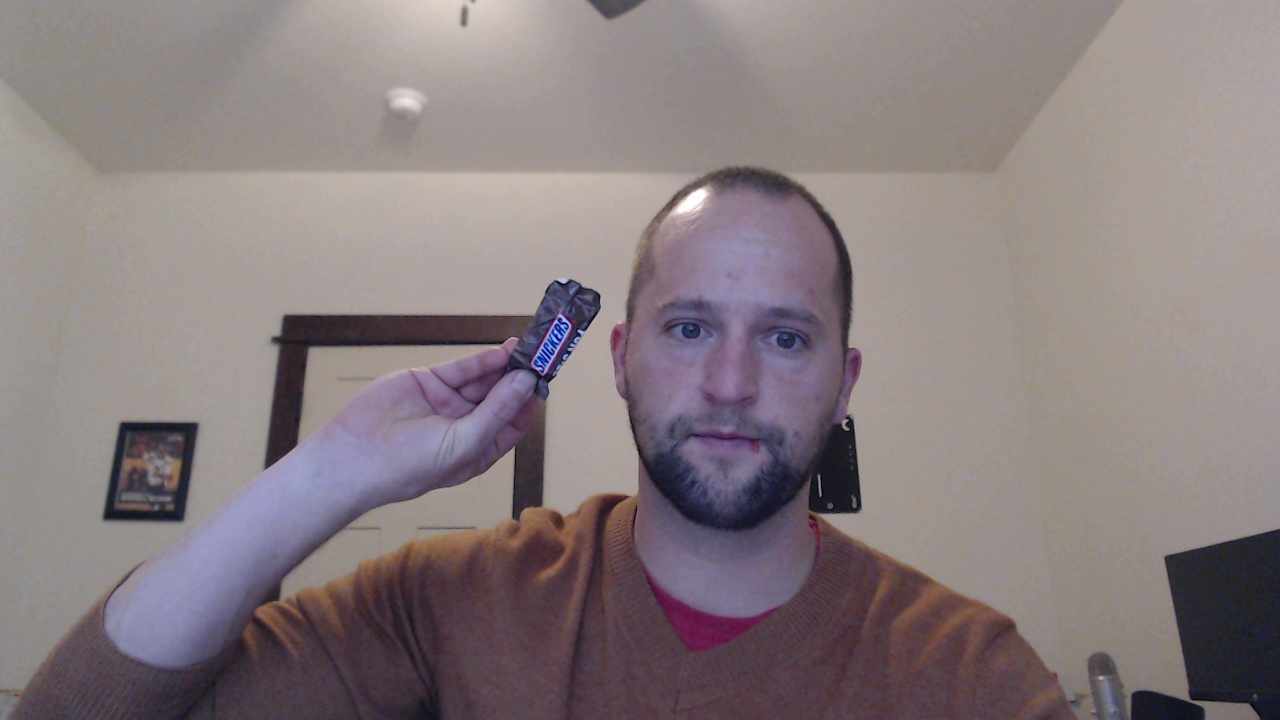snickers: (491, 263, 605, 425)
